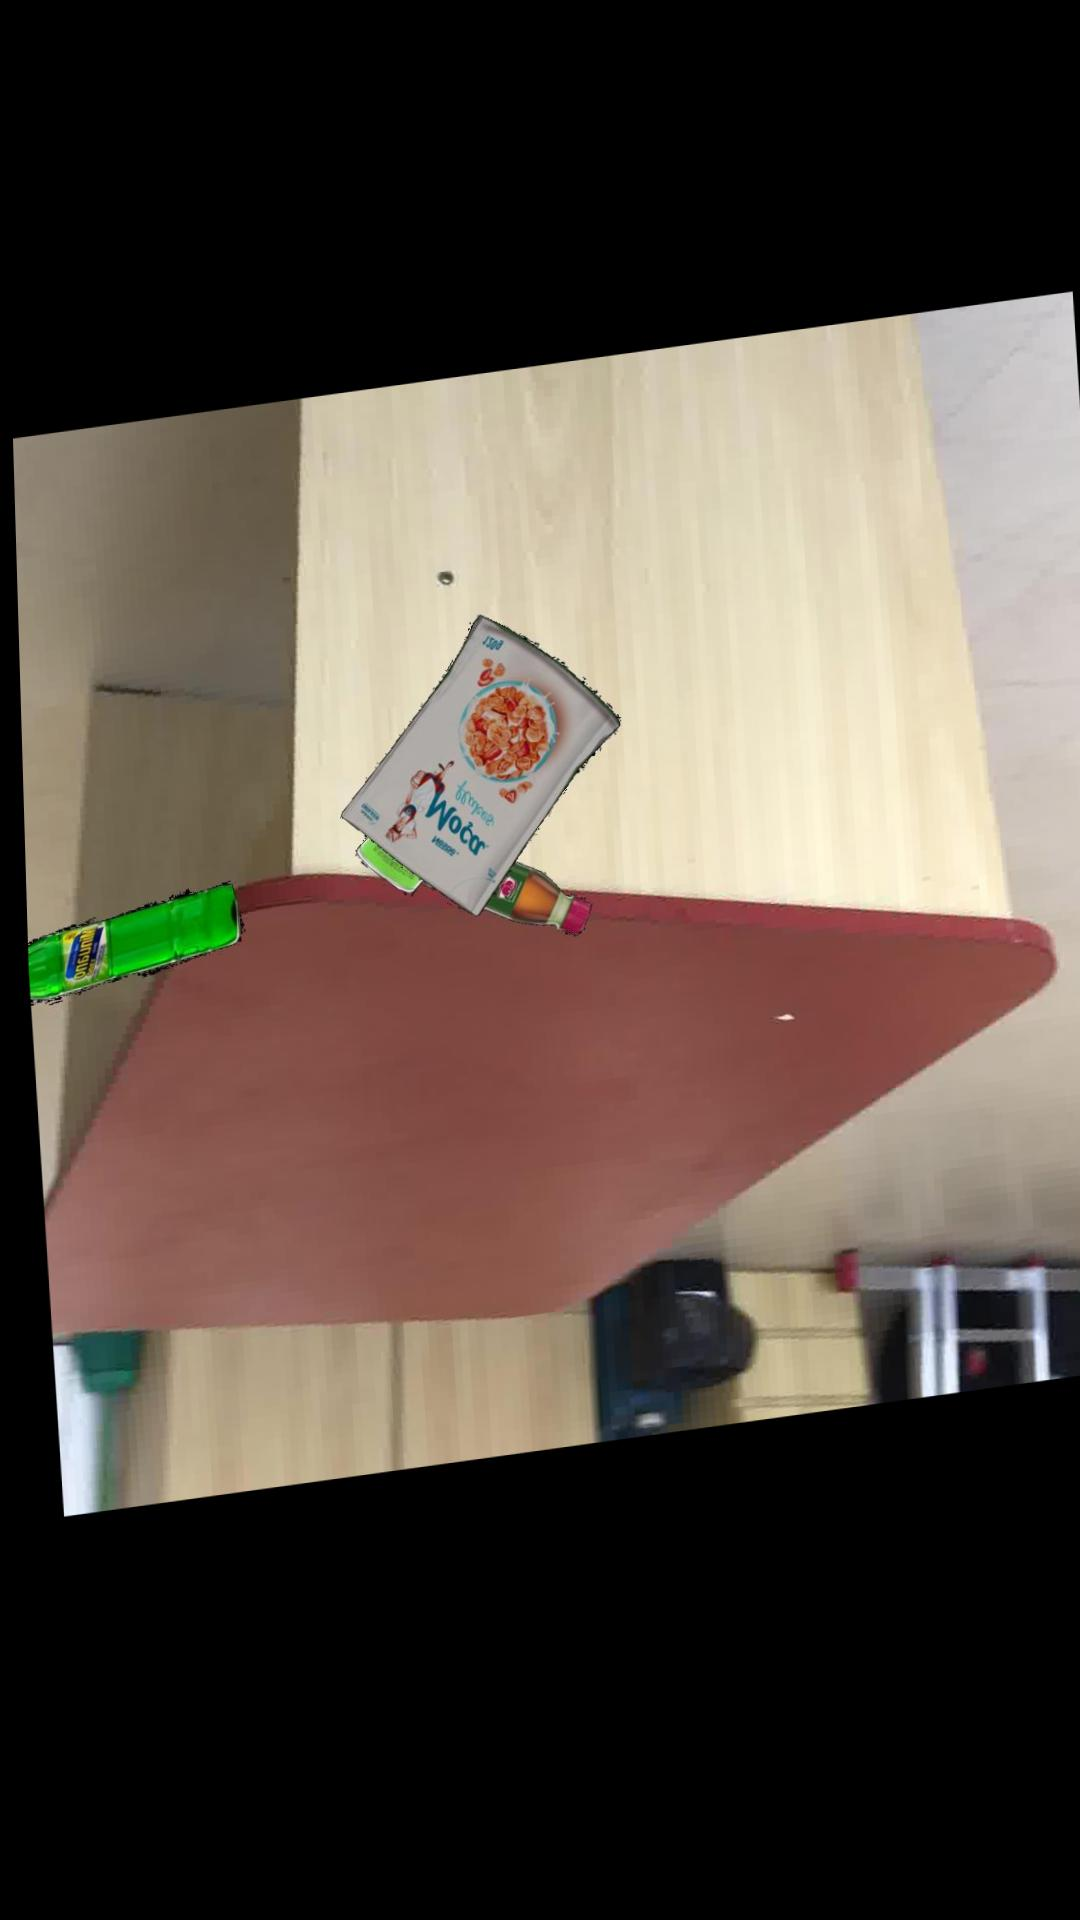cleaner: (22, 885, 239, 1001)
corn flakes: (336, 624, 616, 926)
guarana: (418, 870, 587, 947)
pringles: (351, 844, 418, 901)
